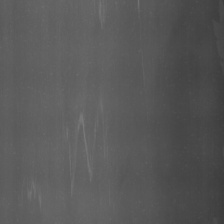silk_spot: (62, 104, 104, 205), (27, 168, 44, 211), (94, 2, 114, 30)
